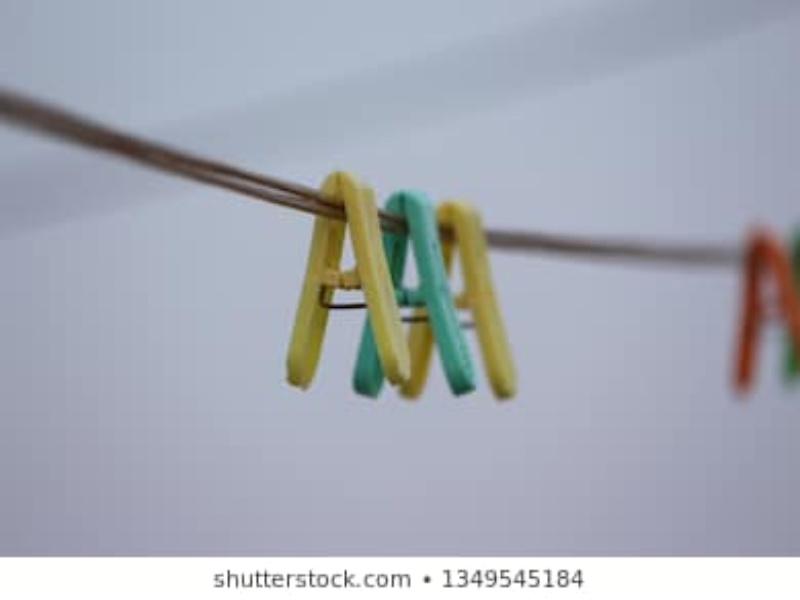plastic-peg: (281, 161, 412, 403), (348, 184, 476, 405), (403, 198, 516, 401)
